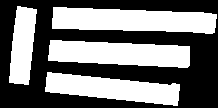parkingspot: (45, 72, 179, 105), (52, 7, 216, 33), (48, 40, 189, 67), (9, 6, 36, 84)
